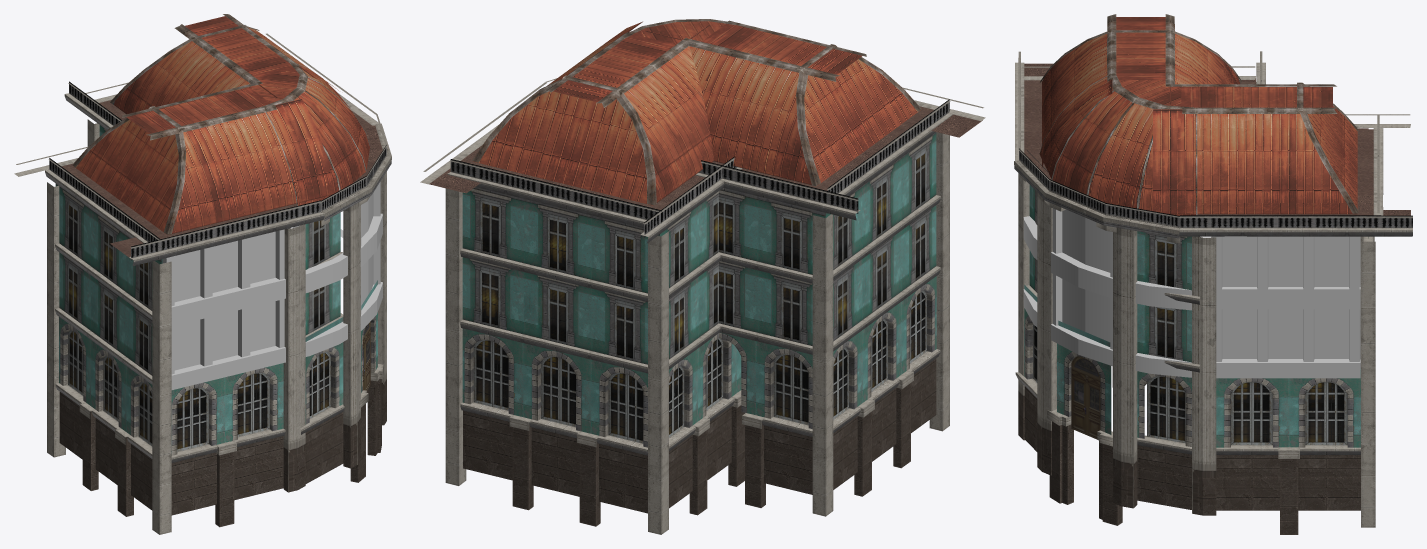
Rendered from tier2_city_corner2.gltf.
3 views of the same model, side by side, from view 1: azimuth 30°, elevation 25°; view 2: azimuth 150°, elevation 25°; view 3: azimuth 270°, elevation 25° (orthographic). The views are drawn at different scales.
Visible parts, largest first — view 1: _lod0; view 2: _lod0; view 3: _lod0.
Boxes of the visible parts, x1,y1,x2,y2 form: _lod0: (14,14,391,534); _lod0: (420,19,985,534); _lod0: (1014,14,1412,534).
Bounding box in the file's own units: 2.49 × 2.7 × 2.49.
